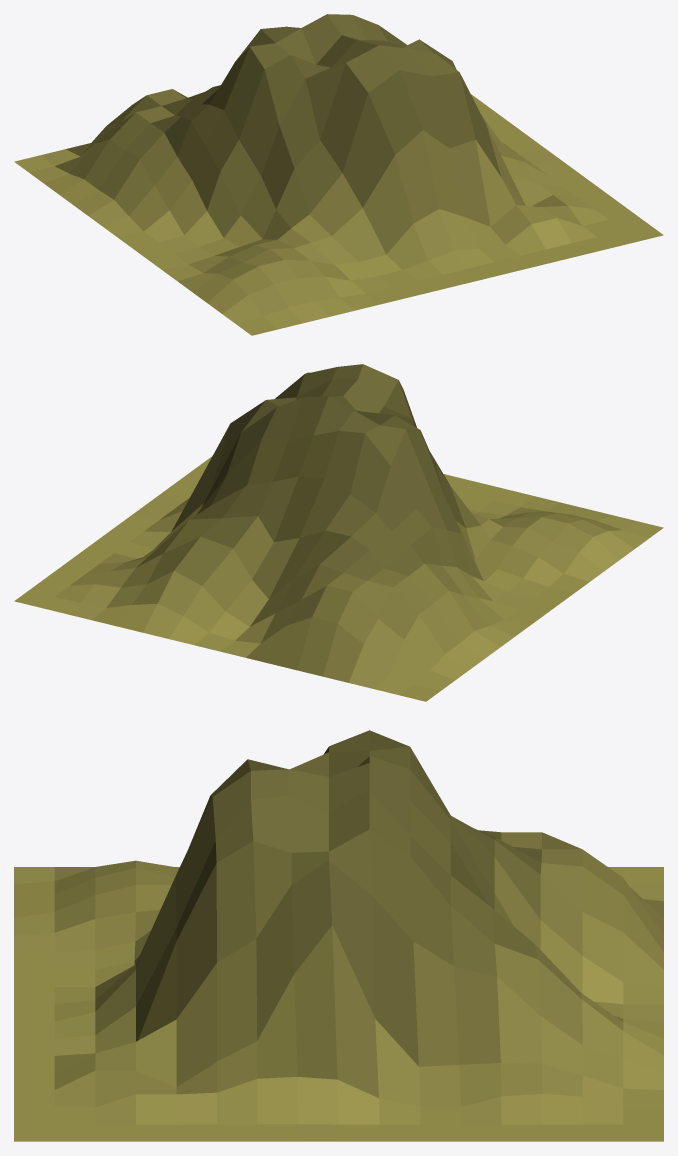
Rendered from Terrain_24_Yellow.fbx.
3 renders of one model, top to bottom at view 1: azimuth 30°, elevation 25°; view 2: azimuth 150°, elevation 25°; view 3: azimuth 270°, elevation 25°, orthographic. The views are drawn at different scales.
Parts seen in each view (by area): view 1: Terrain_24_Yellow; view 2: Terrain_24_Yellow; view 3: Terrain_24_Yellow.
Part boxes in pixels (<box>): Terrain_24_Yellow: <box>14,14,663,335</box>; Terrain_24_Yellow: <box>14,364,663,701</box>; Terrain_24_Yellow: <box>14,730,663,1141</box>.
Size of the model in its own units: 5000 by 2045 by 5000.
